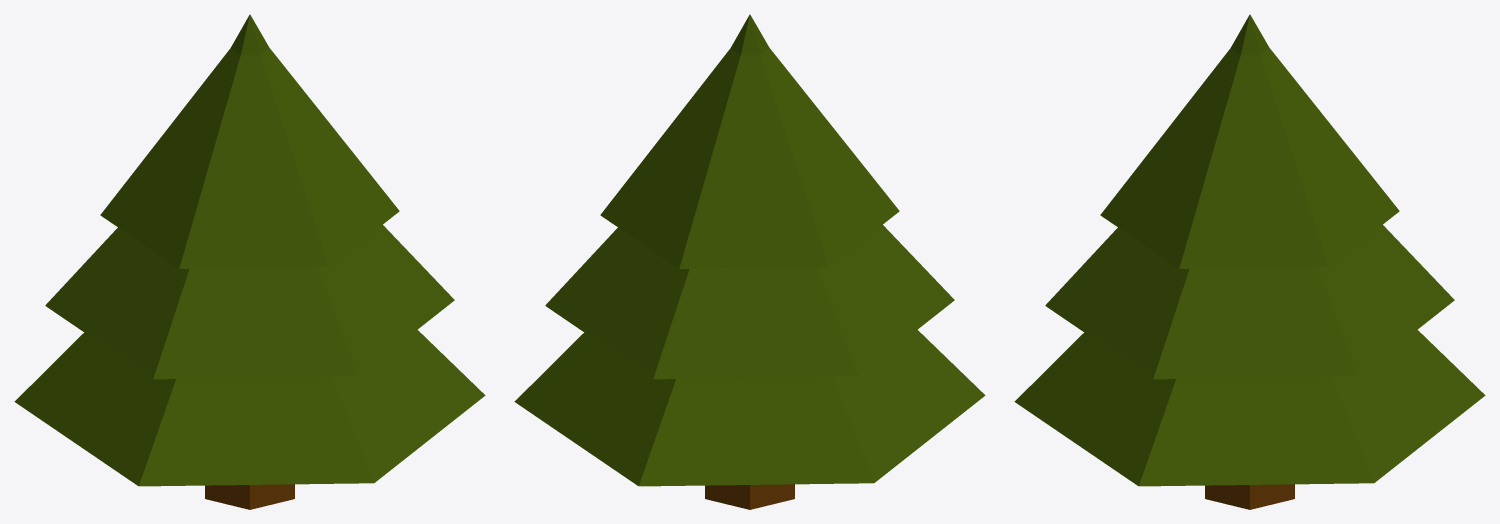
File: TreeB.fbx
The picture shows the model from 3 angles, left to right: view 1: azimuth 30°, elevation 25°; view 2: azimuth 150°, elevation 25°; view 3: azimuth 270°, elevation 25°; orthographic projection.
Visible parts, largest first — view 1: group_0.002; view 2: group_0.002; view 3: group_0.002.
Boxes of the visible parts, bbox=[...] form: group_0.002: bbox=[14, 14, 485, 509]; group_0.002: bbox=[514, 14, 985, 509]; group_0.002: bbox=[1014, 14, 1485, 509].
Bounding box in the file's own units: 196 × 247 × 222.
